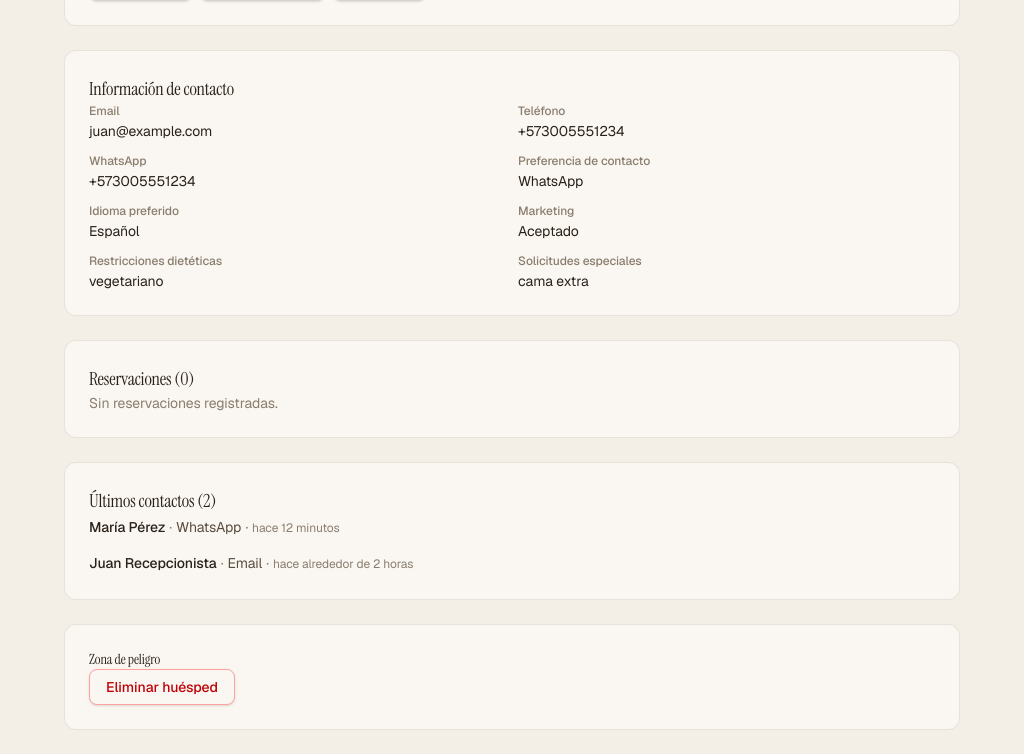
Test case: GuestDetailPage › Test D-3 — guest without reservations shows permanent-delete confirmation
(page scrolled)
What coordinates should you click on to do the following:
click the button "Eliminar huésped"
I would click on:
 (162, 687)
Its box is [89, 669, 235, 705].
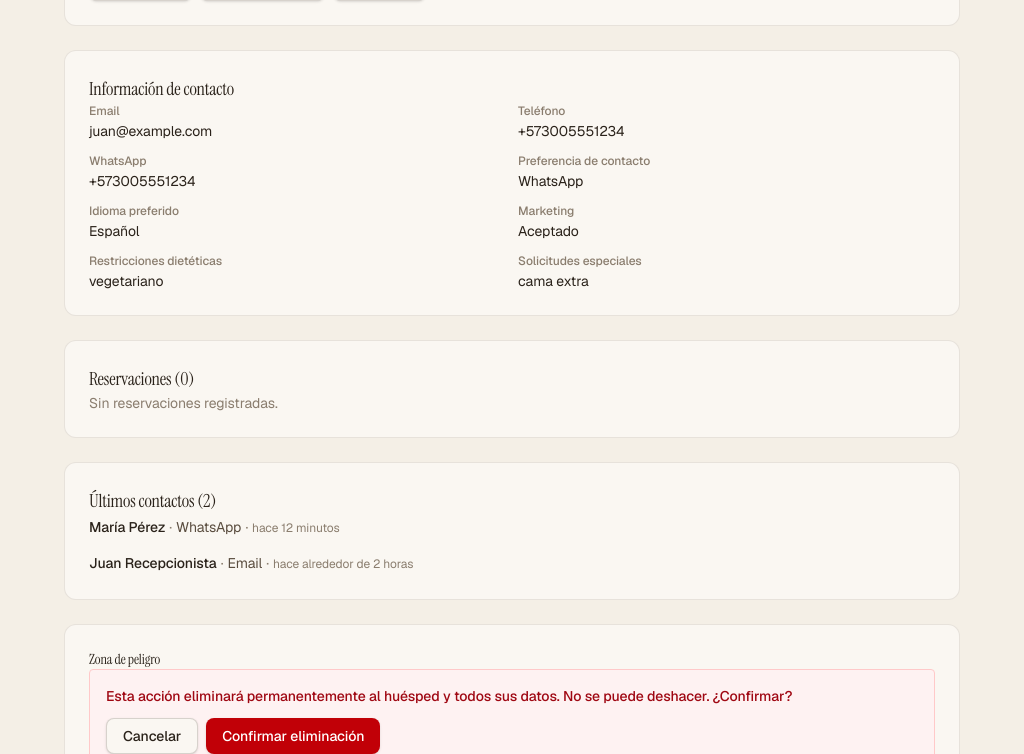
Result: the text "eliminará permanentemente al huésped" is shown at [106, 687, 792, 705]
Result: the button "Confirmar eliminación" is shown at [206, 718, 380, 753]
